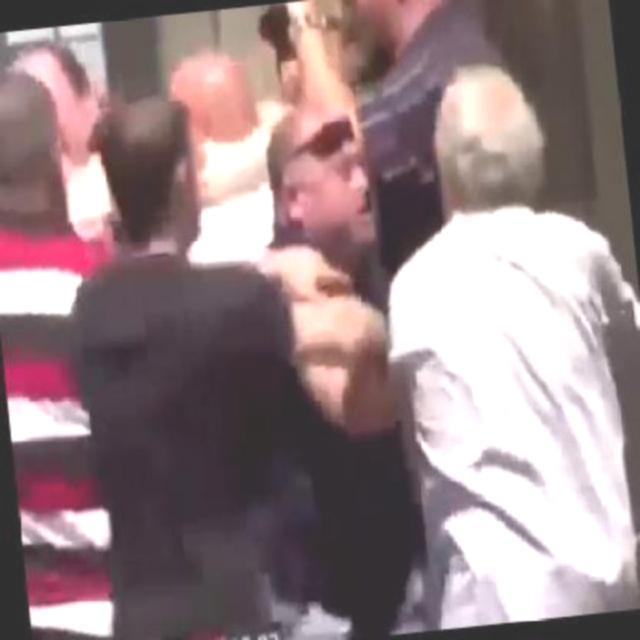fight: (65, 116, 407, 538)
